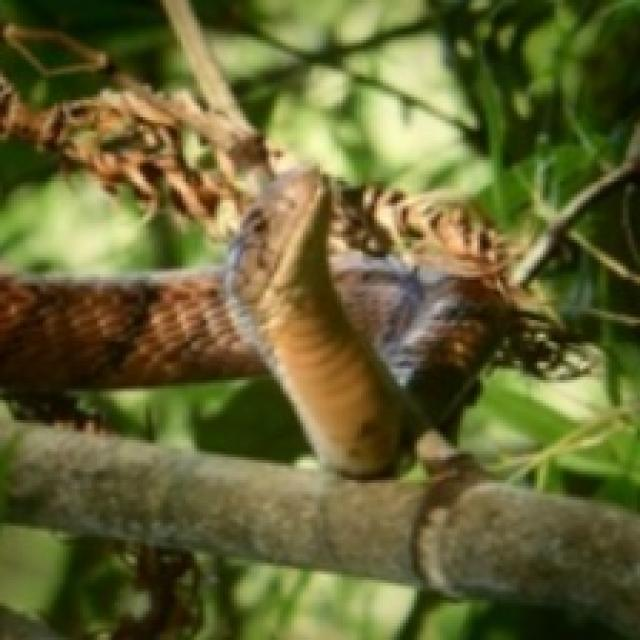king cobra: (0, 169, 569, 474)
